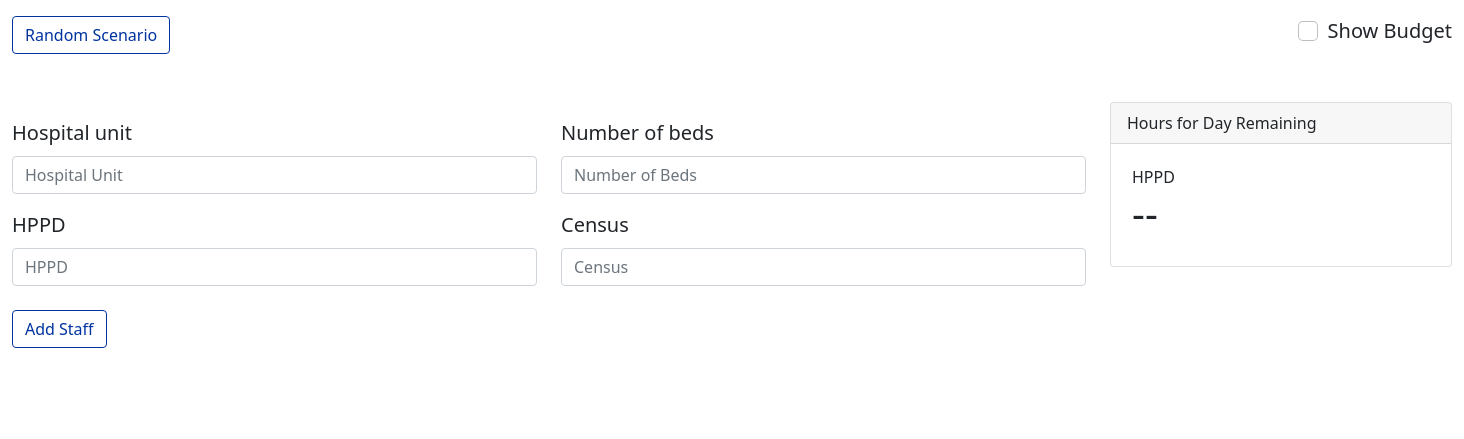
Test: <StaffBudget /> › Test show budget
The image size is (1464, 439).
Expected: the text "Total Staff Expenses" is not shown
// show budget checked
Click the checkbox with test id "showbudget-id" at (1308, 31), box [1298,21,1318,41]
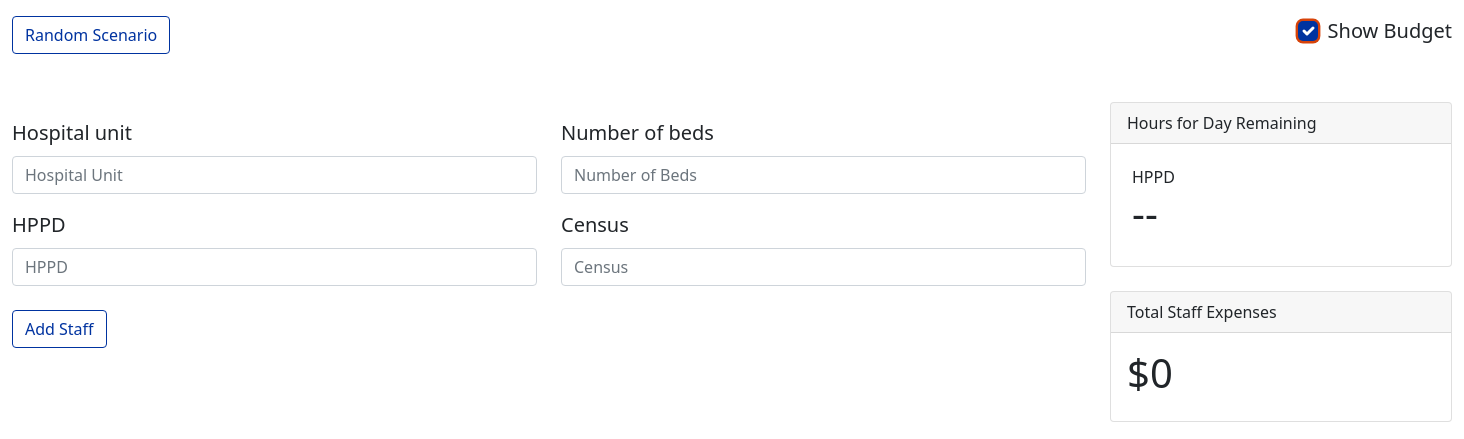
Expected: the checkbox with test id "showbudget-id" is checked, [1298,21,1318,41]
Expected: the text "Total Staff Expenses" is shown, [1111,292,1451,333]
